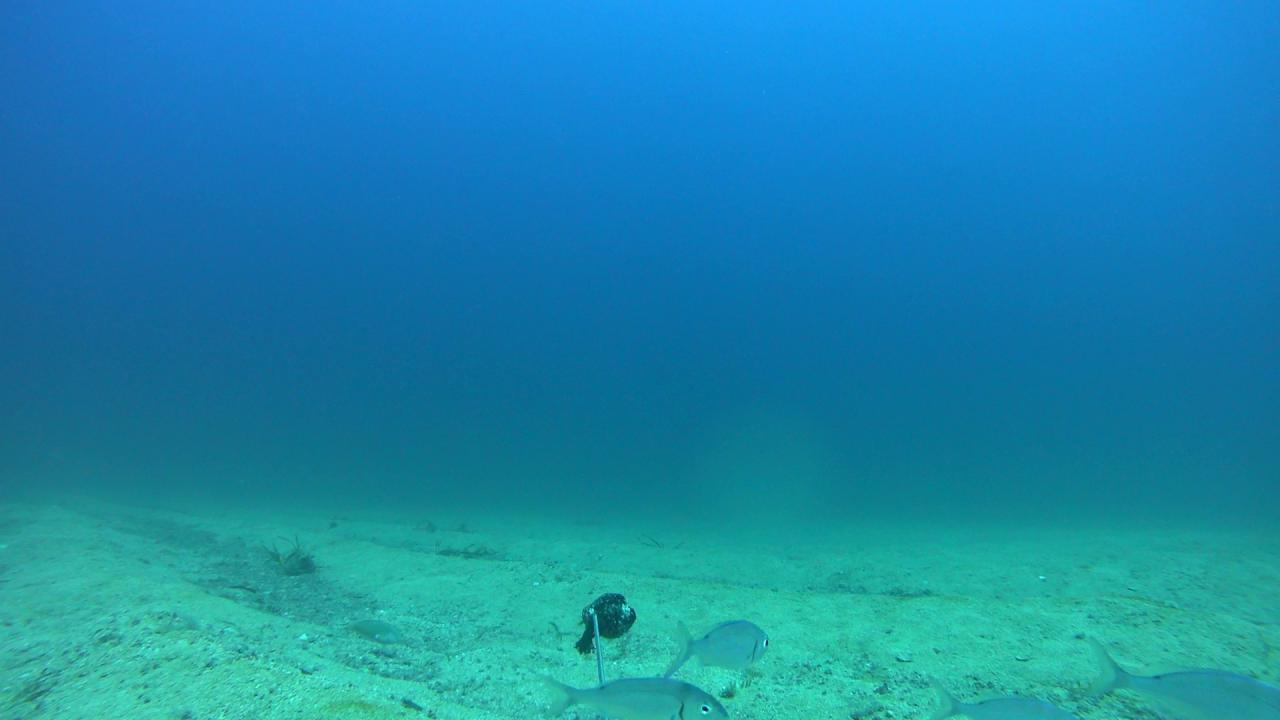pagellus: (664, 620, 770, 676)
